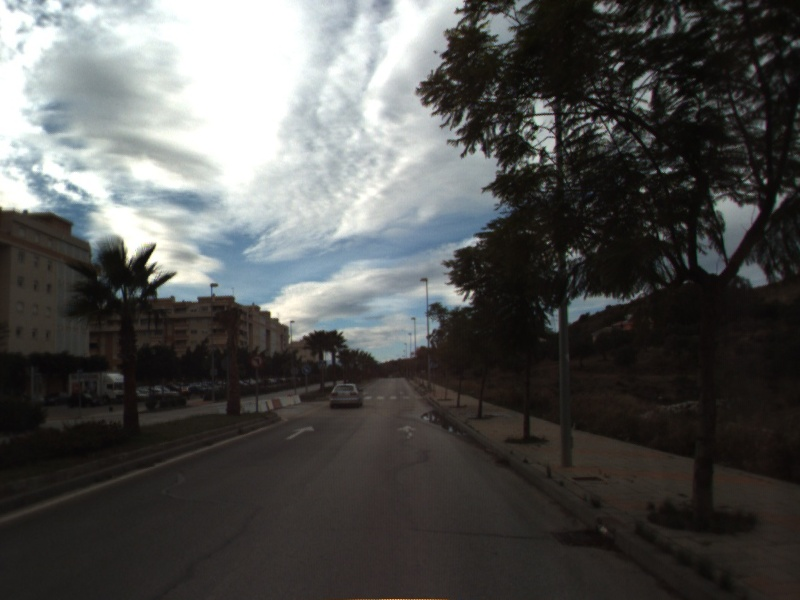STRAIGHT: (283, 424, 316, 441), (395, 423, 419, 442)
